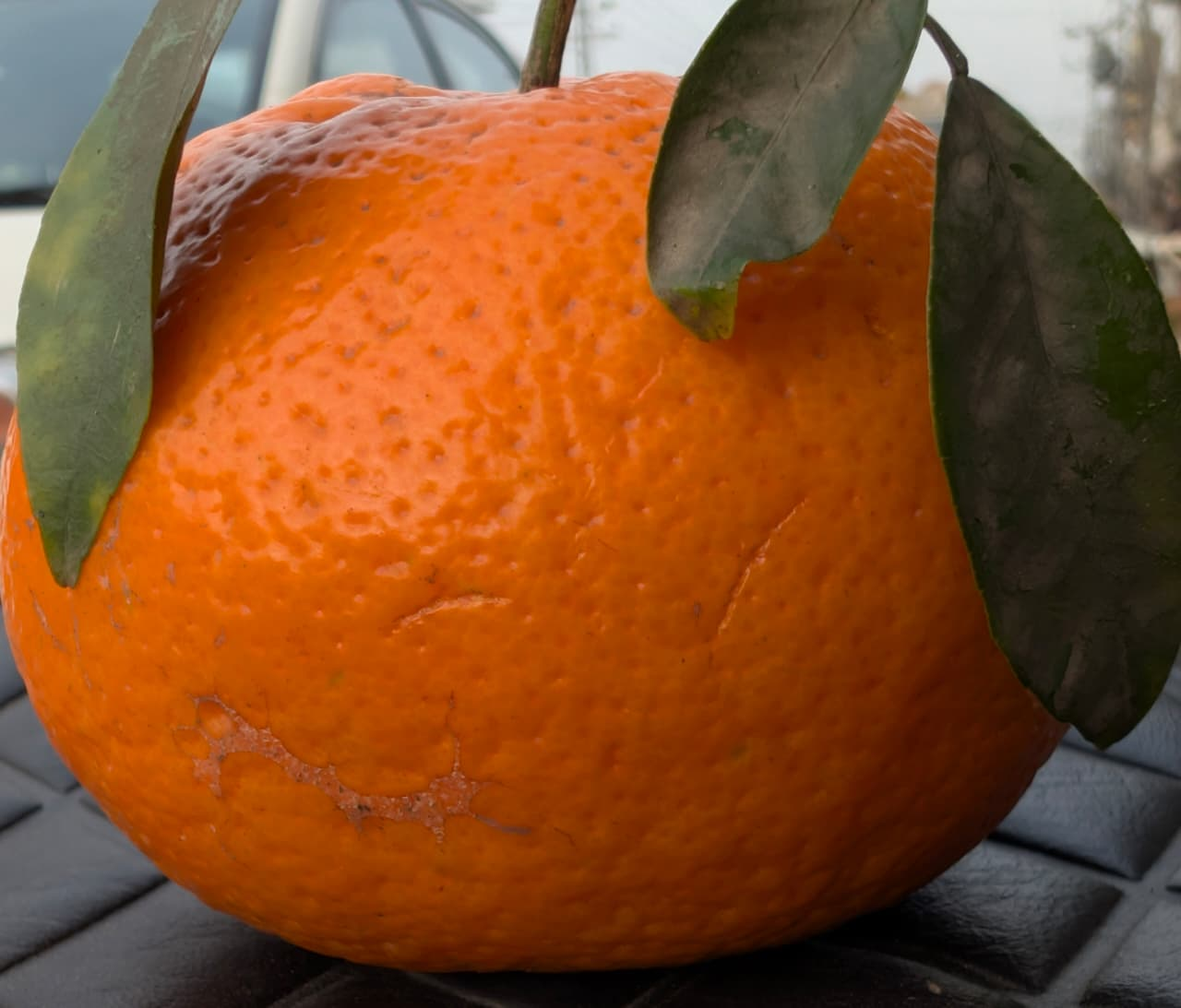orange: (0, 88, 1006, 723)
